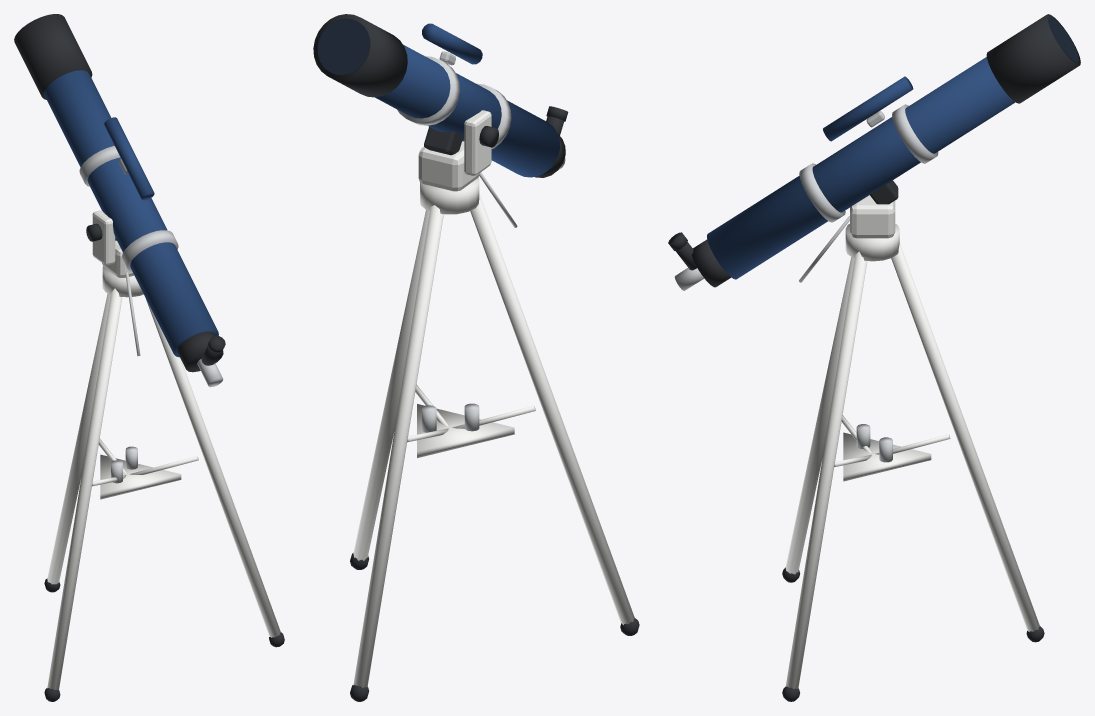
The model's file is telescope.glb.
3 views of the same model, side by side, from view 1: azimuth 30°, elevation 25°; view 2: azimuth 150°, elevation 25°; view 3: azimuth 270°, elevation 25° (orthographic). The views are drawn at different scales.
Visible parts, largest first — view 1: tube, body; view 2: body, tube; view 3: tube, body.
Boxes of the visible parts, x1,y1,x2,y2 form: tube: (14,14,225,387); body: (44,210,284,701); body: (350,110,639,701); tube: (313,14,568,177); tube: (668,14,1080,290); body: (782,195,1044,701).
Bounding box in the file's own units: 0.6635 × 1.52 × 0.9124.
